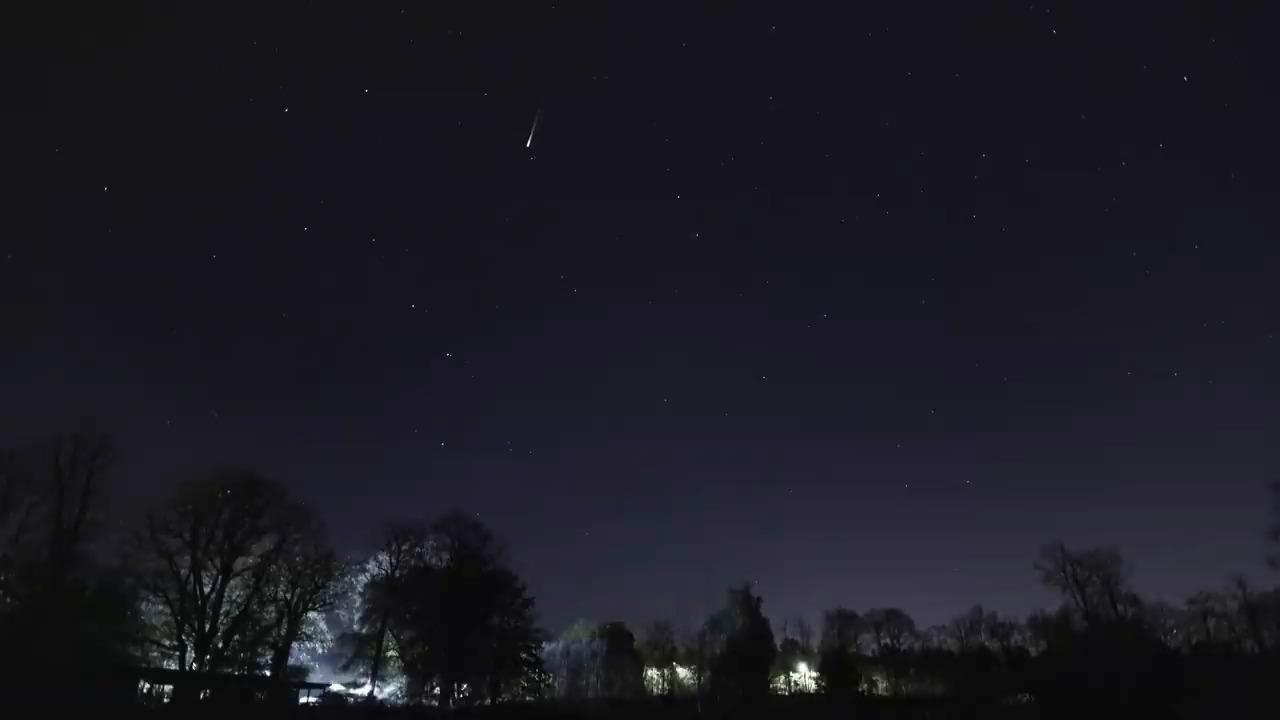meteorite: (474, 109, 593, 153)
